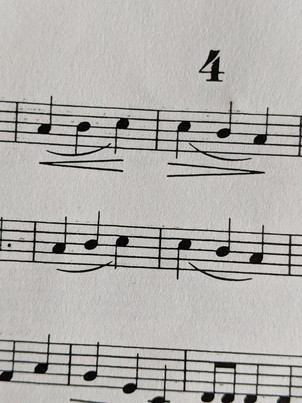note: (45, 210, 76, 267), (170, 220, 197, 285), (78, 337, 108, 395), (211, 214, 238, 277), (28, 331, 55, 390), (106, 98, 131, 159), (212, 99, 238, 157), (81, 206, 105, 268), (243, 220, 267, 281), (169, 104, 195, 159), (33, 93, 57, 151), (248, 104, 273, 159), (108, 220, 131, 277), (119, 341, 142, 398), (71, 101, 92, 158), (1, 337, 21, 392)
